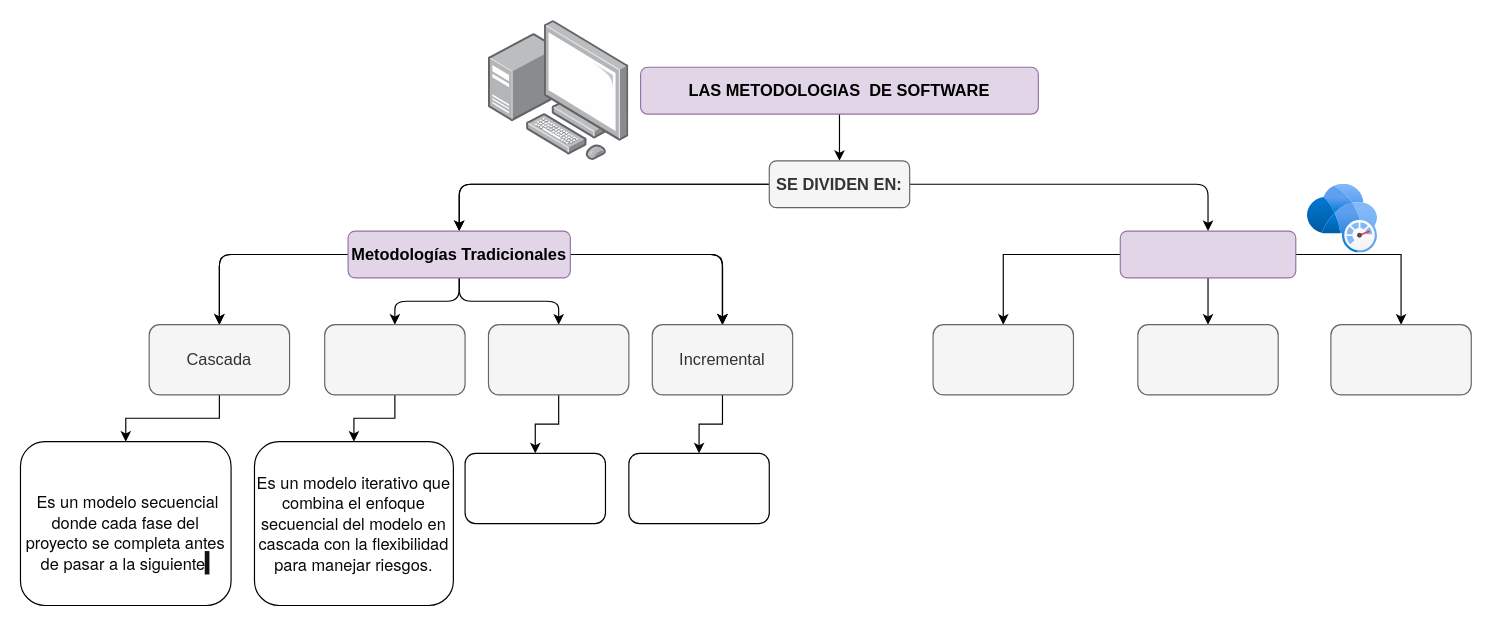
Image size: 1492x626. Some labels were removed from this diagram. The shapes that lost their labels are listed below. From the top down, each one's centre as x and y in pixels, then its label:
(x=1207, y=254): Metodologías Agiles
(x=394, y=359): Espiral
(x=558, y=359): Prototipado
